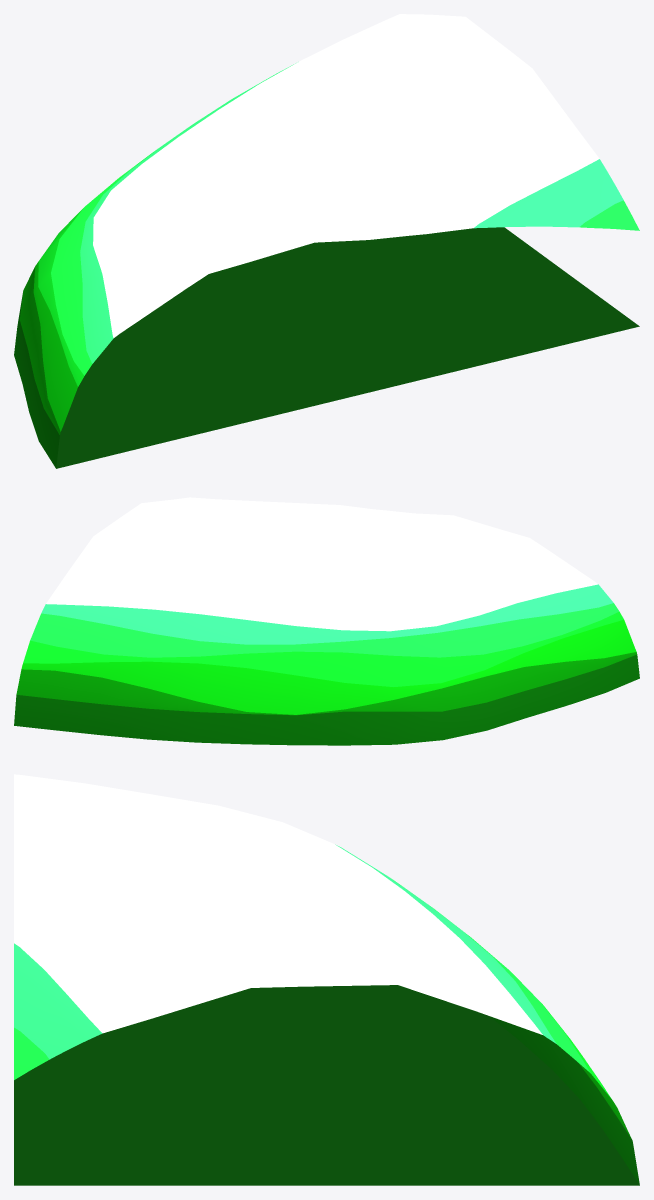
File: shot_charge_b267.glb
The picture shows the model from 3 angles, top to bottom: view 1: azimuth 30°, elevation 25°; view 2: azimuth 150°, elevation 25°; view 3: azimuth 270°, elevation 25°; orthographic projection. The views are drawn at different scales.
Visible parts, largest first — view 1: charge_great_wave_shot_charge_b267; view 2: charge_great_wave_shot_charge_b267; view 3: charge_great_wave_shot_charge_b267.
Part boxes in pixels (x1,y1,x2,y2): charge_great_wave_shot_charge_b267: [14, 14, 639, 468]; charge_great_wave_shot_charge_b267: [14, 497, 639, 745]; charge_great_wave_shot_charge_b267: [14, 774, 639, 1185].
Bounding box in the file's own units: 10.73 × 3.2 × 9.05.
